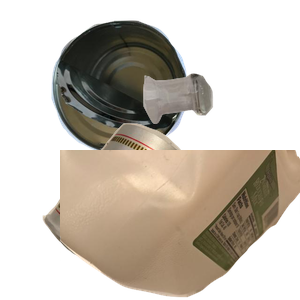glass: (141, 71, 300, 187)
metal: (49, 18, 229, 164)
plastic: (60, 150, 300, 300)
trash: (40, 121, 221, 300)
